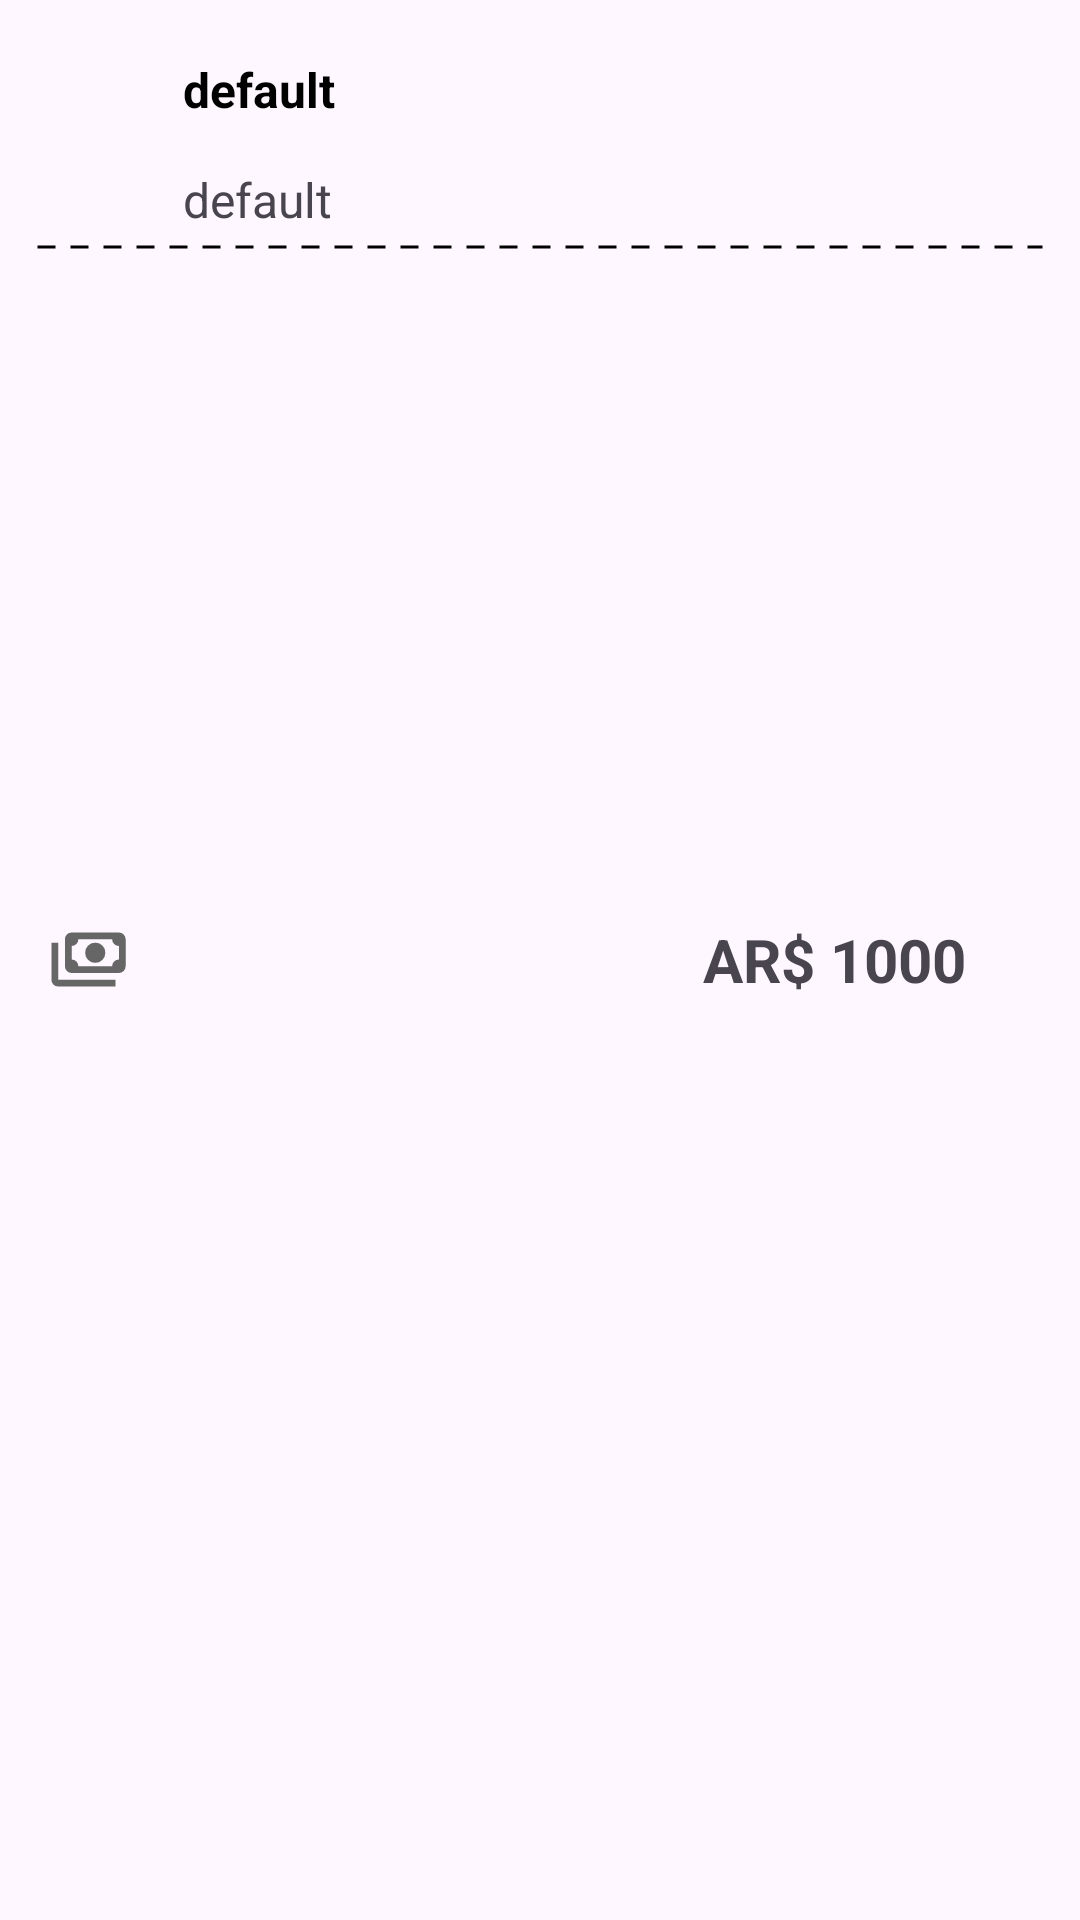

Where to tap for icons on this 1080×1920 app screen, as (x,y):
payment: (88,959)
